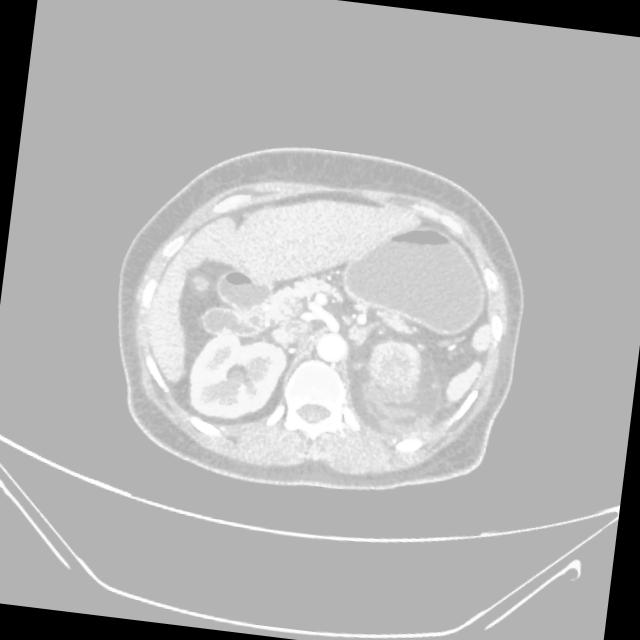TUMOR: (83, 176, 561, 404)
